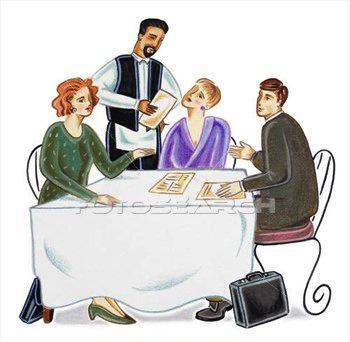chair: (251, 148, 335, 316)
diningtable: (25, 168, 256, 324)
person: (37, 78, 160, 325), (195, 76, 319, 319), (85, 14, 184, 169), (158, 78, 229, 169)
